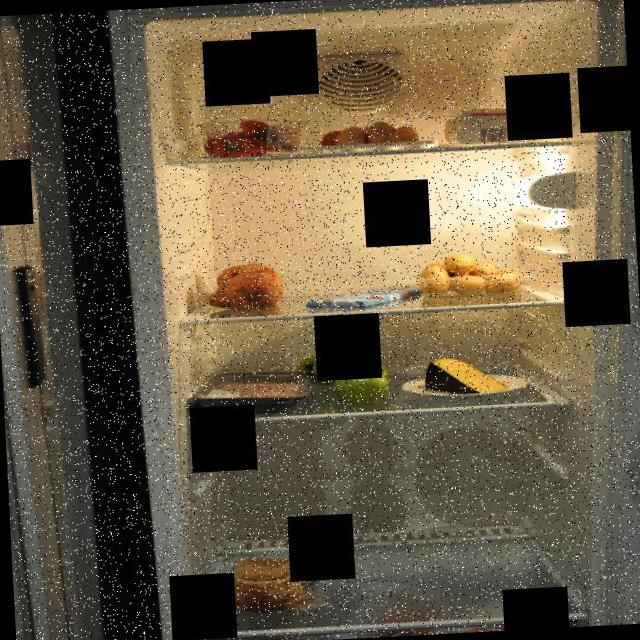Carne pollo: (190, 366, 314, 418)
Huevos: (314, 118, 422, 156)
Manzana: (294, 348, 396, 414)
Patata: (414, 249, 528, 299)
Queso: (422, 354, 510, 396)
